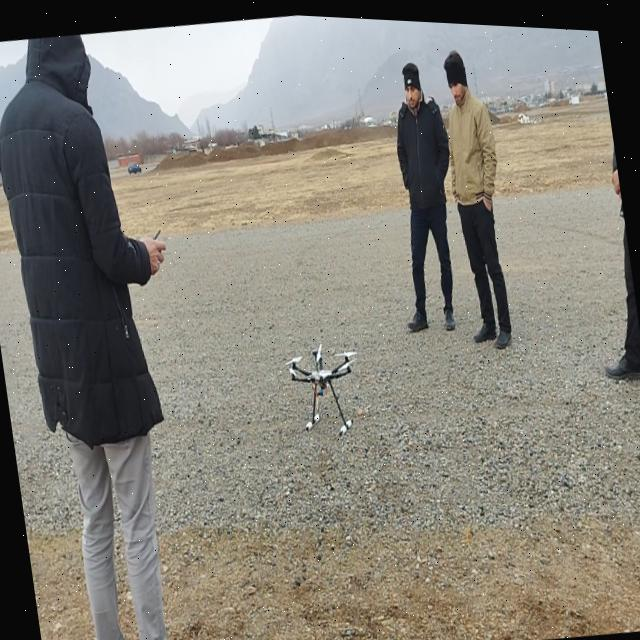drone: (282, 331, 369, 443)
